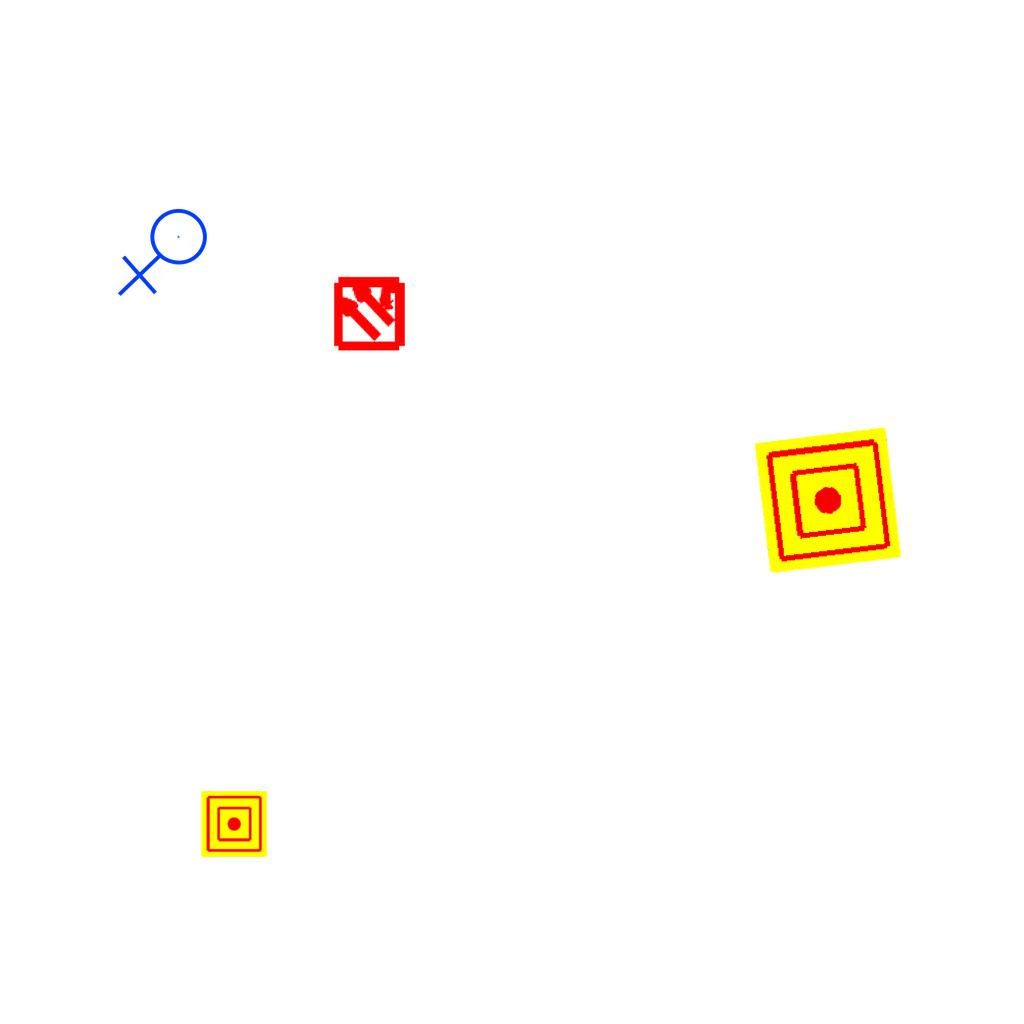Elektroanschluss_allgemein_230V_Geraeteanschlussdose_230V: (117, 207, 216, 301)
NAM-Nichtautomatischer_Melder: (754, 426, 902, 574), (201, 791, 267, 857)
OT_Multisensormelder_(Kombination_RMO_WMD): (313, 255, 426, 368)
